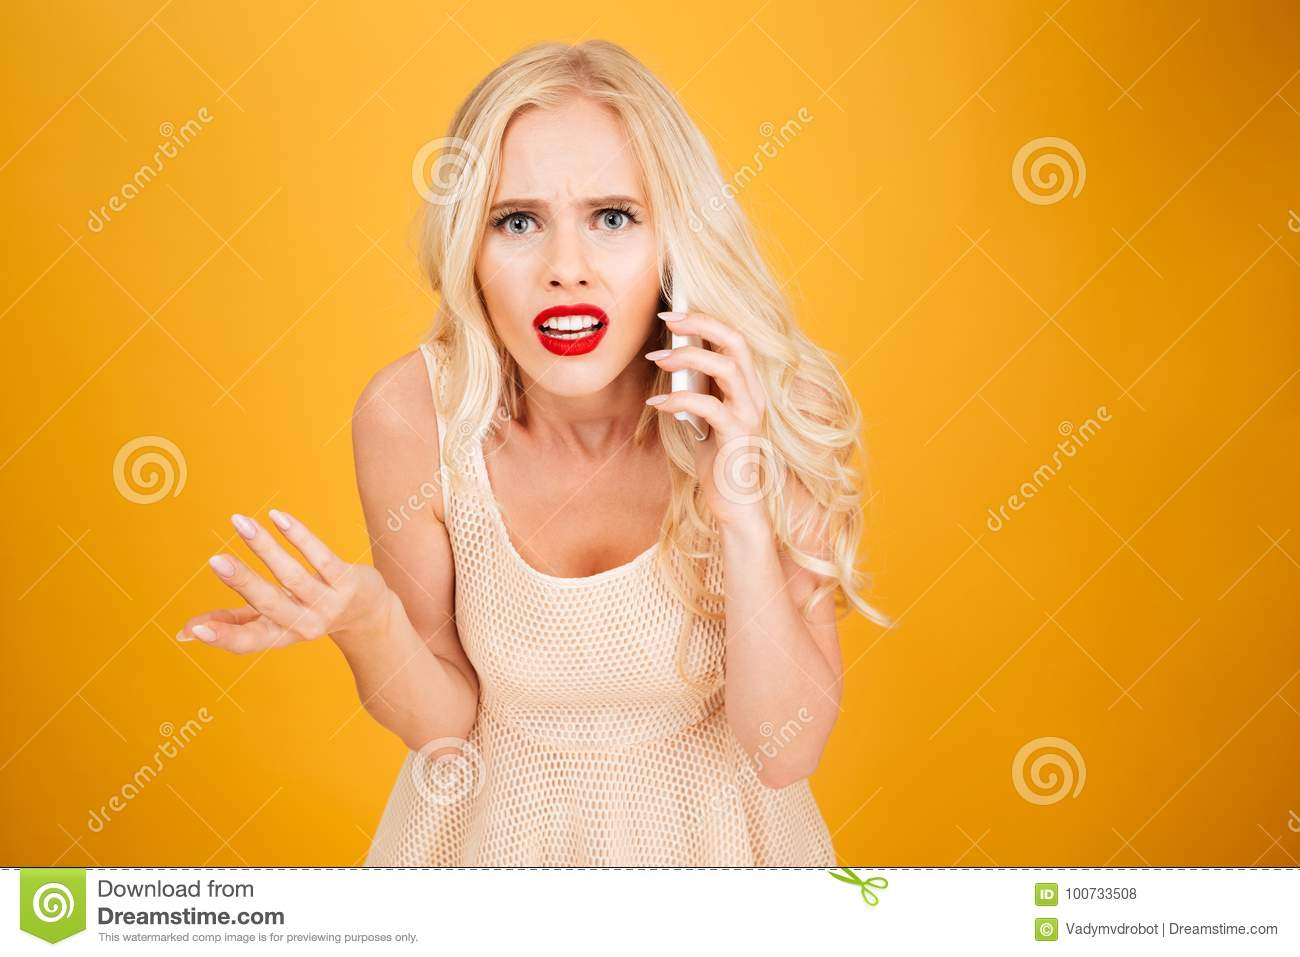phone: (650, 257, 714, 452)
talk: (477, 181, 769, 531)
